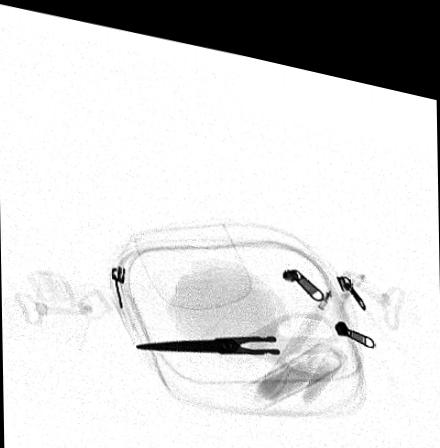Scissors: (131, 296, 356, 366)
